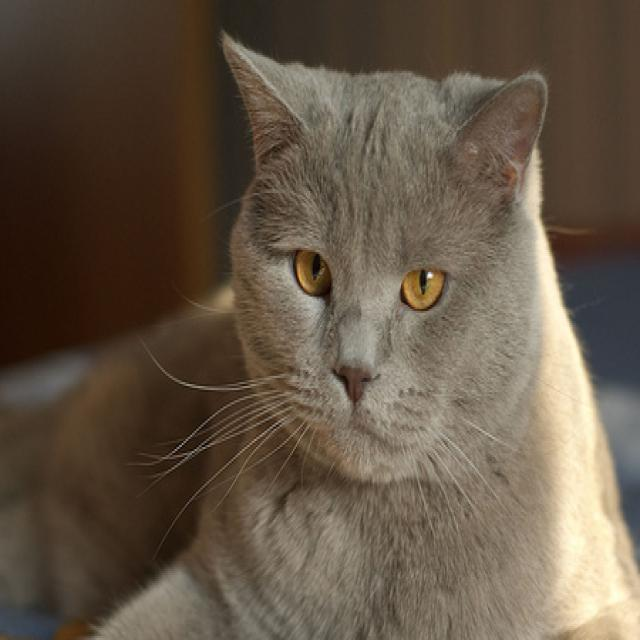British Shorthair: (14, 30, 640, 640)
